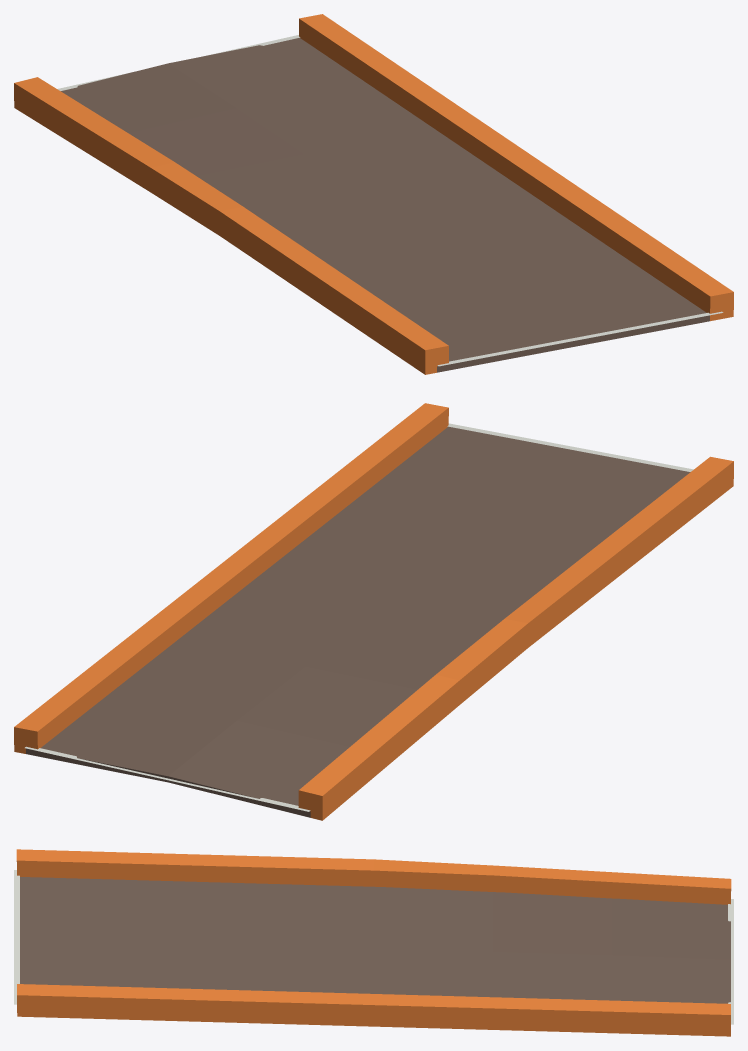
File: SM_MP_Film_A_2_2.fbx
3 renders of one model, top to bottom at view 1: azimuth 30°, elevation 25°; view 2: azimuth 150°, elevation 25°; view 3: azimuth 270°, elevation 25°, orthographic. The views are drawn at different scales.
Parts seen in each view (by area): view 1: SM_MP_Film_A_2_2; view 2: SM_MP_Film_A_2_2; view 3: SM_MP_Film_A_2_2.
Part boxes in pixels (x1,y1,x2,y2): SM_MP_Film_A_2_2: (14,14,733,374); SM_MP_Film_A_2_2: (14,403,733,820); SM_MP_Film_A_2_2: (14,849,733,1036).
Size of what is drawn, in the model's own units: 260 by 605 by 52.37.
